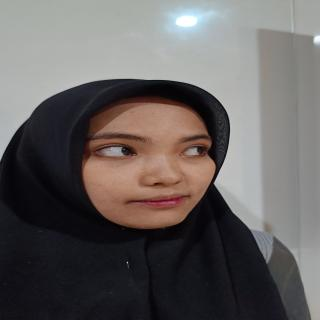Takut: (68, 90, 240, 233)
